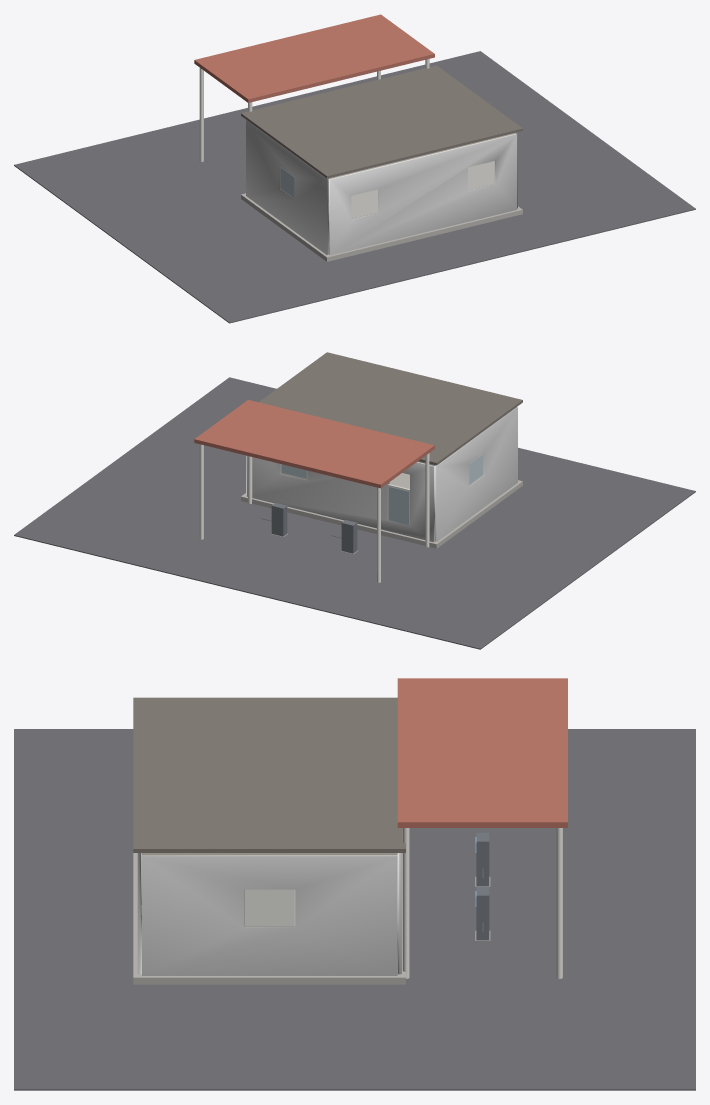
The model's file is gas_station.glb.
The picture shows the model from 3 angles, top to bottom: view 1: azimuth 30°, elevation 25°; view 2: azimuth 150°, elevation 25°; view 3: azimuth 270°, elevation 25°; orthographic projection. The views are drawn at different scales.
Visible parts, largest first — view 1: ground, roof, back_wall, canopy_roof, left_wall, foundation, frame (×2); view 2: ground, roof, canopy_roof, front_wall, left_wall, foundation, body (×2), frame, glass, post_fr, post_bl; view 3: ground, roof, right_wall, canopy_roof, foundation, frame, body (×2), post_br, post_fr, ceiling.
Part boxes in pixels (x1=…): ground: x1=14, y1=51, x2=695, y2=323; roof: x1=241, y1=65, x2=522, y2=178; back_wall: x1=329, y1=134, x2=516, y2=255; canopy_roof: x1=194, y1=14, x2=434, y2=102; left_wall: x1=246, y1=120, x2=328, y2=254; foundation: x1=241, y1=193, x2=522, y2=261; frame (×2): x1=351, y1=161, x2=494, y2=218; ground: x1=14, y1=377, x2=695, y2=649; roof: x1=259, y1=352, x2=522, y2=465; canopy_roof: x1=194, y1=400, x2=434, y2=488; front_wall: x1=247, y1=456, x2=434, y2=542; left_wall: x1=435, y1=407, x2=517, y2=541; foundation: x1=241, y1=480, x2=522, y2=548; body (×2): x1=271, y1=503, x2=357, y2=553; frame: x1=388, y1=484, x2=409, y2=524; glass: x1=389, y1=486, x2=409, y2=524; post_fr: x1=199, y1=444, x2=203, y2=539; post_bl: x1=425, y1=453, x2=429, y2=547; ground: x1=14, y1=729, x2=695, y2=1090; roof: x1=133, y1=697, x2=405, y2=852; right_wall: x1=142, y1=855, x2=397, y2=975; canopy_roof: x1=397, y1=678, x2=567, y2=827; foundation: x1=133, y1=853, x2=405, y2=984; frame: x1=244, y1=889, x2=295, y2=926; body (×2): x1=476, y1=832, x2=489, y2=940; post_br: x1=402, y1=828, x2=409, y2=978; post_fr: x1=556, y1=828, x2=562, y2=978; ceiling: x1=142, y1=853, x2=397, y2=855.
Size of the model in its own units: 20 by 4.15 by 16.
